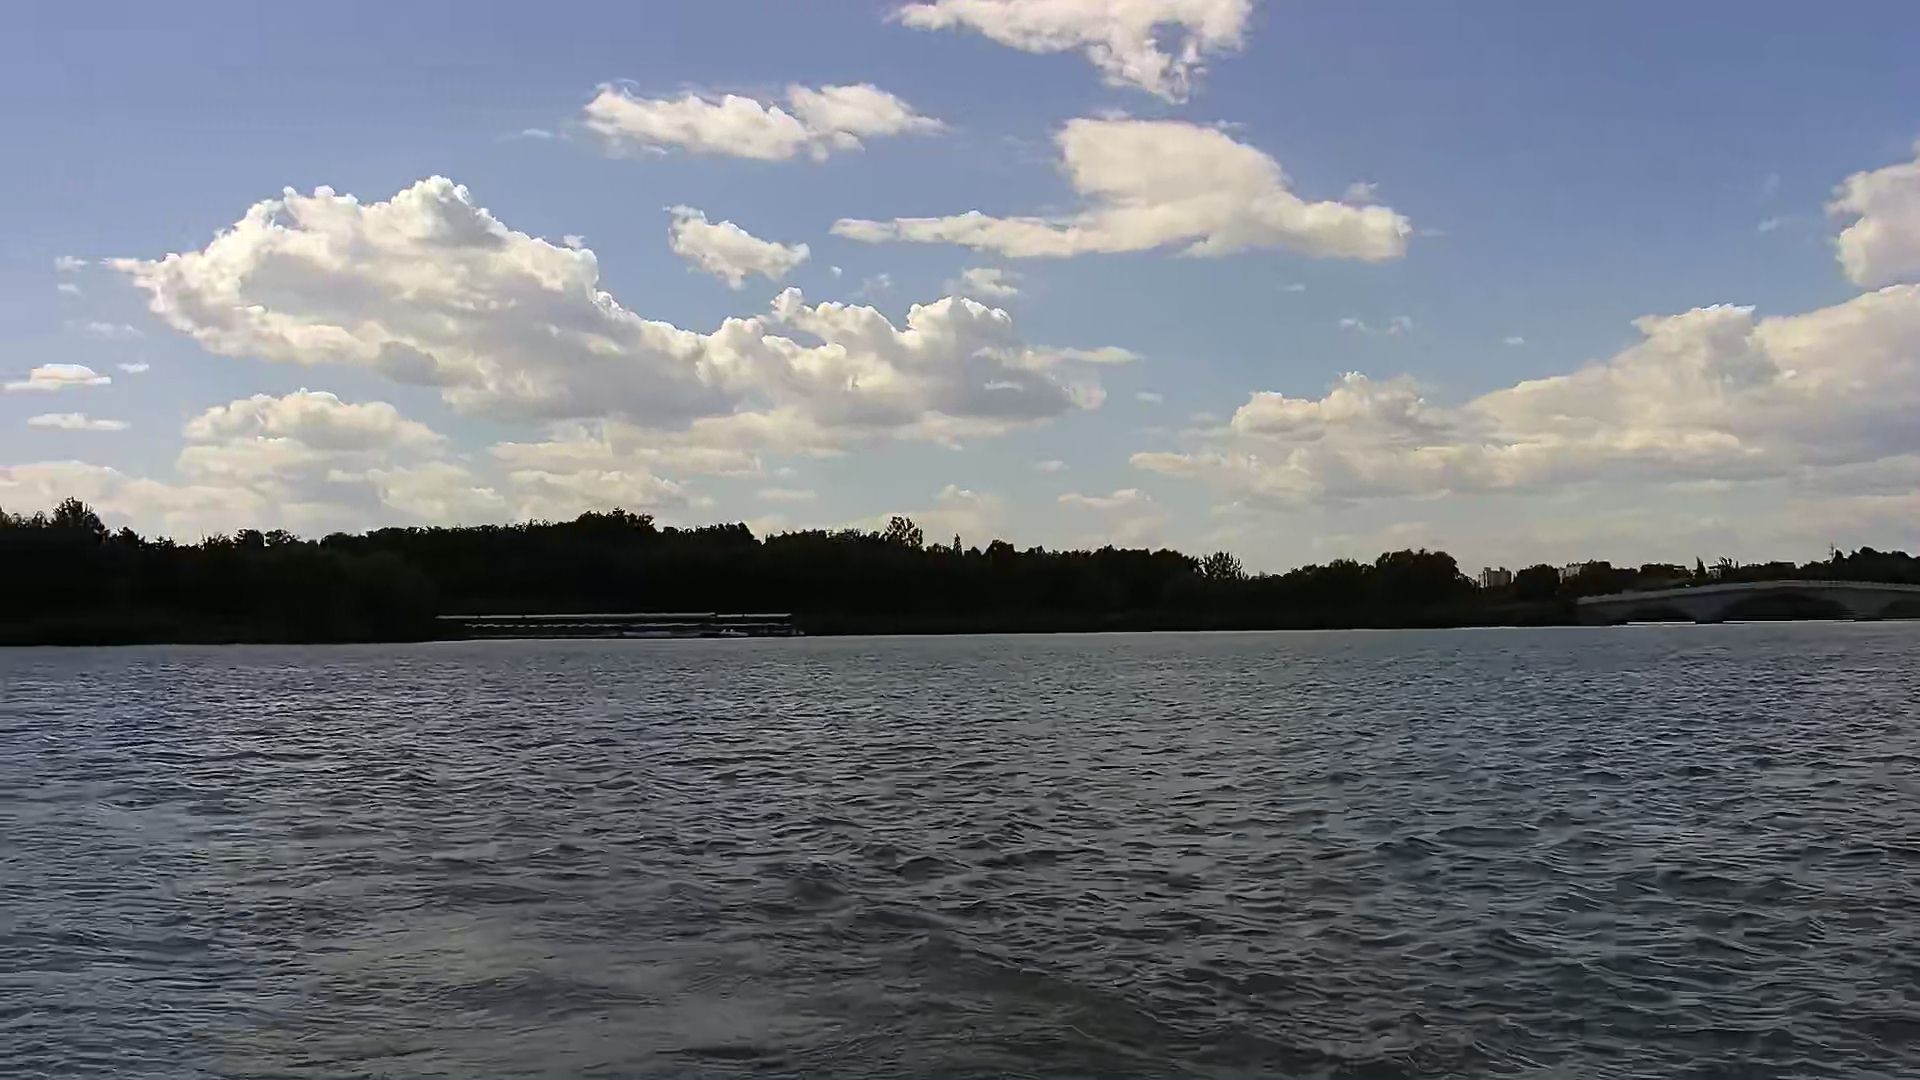bridge: (1571, 574, 1920, 622)
